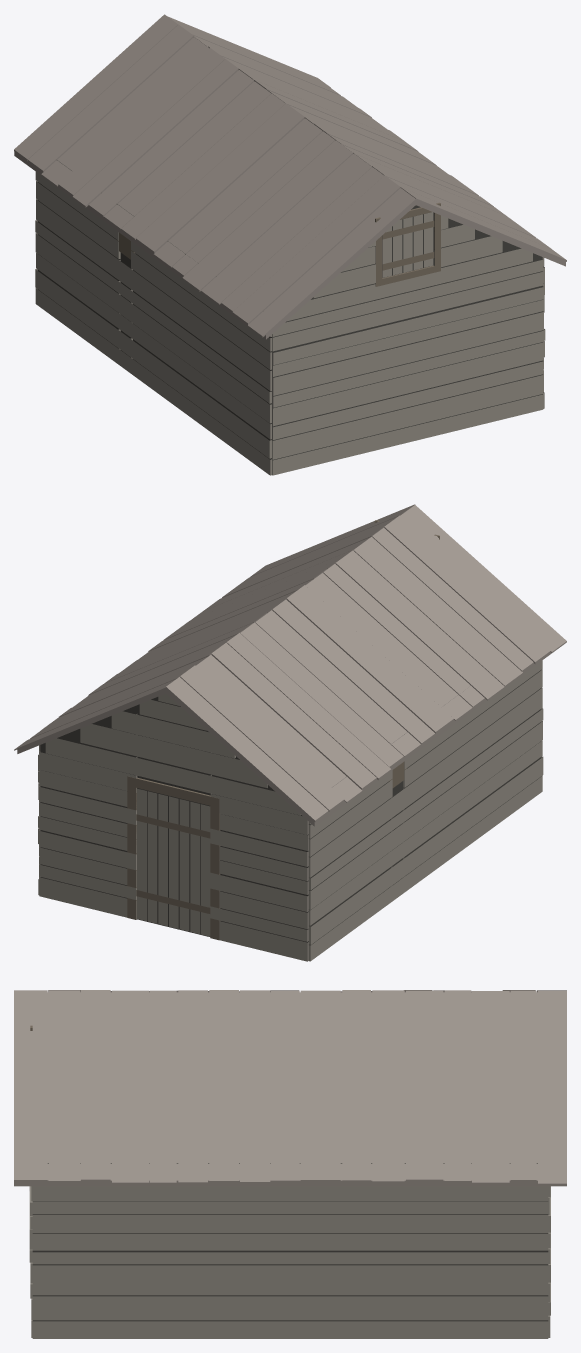
The model's file is recon_1835_west_010__inferred_1835.glb.
The picture shows the model from 3 angles, top to bottom: view 1: azimuth 30°, elevation 25°; view 2: azimuth 150°, elevation 25°; view 3: azimuth 270°, elevation 25°; orthographic projection. The views are drawn at different scales.
Visible parts, largest first — view 1: recon_1835_west_010__inferred_1835; view 2: recon_1835_west_010__inferred_1835; view 3: recon_1835_west_010__inferred_1835.
Boxes of the visible parts, x1,y1,x2,y2 form: recon_1835_west_010__inferred_1835: (14,14,566,475); recon_1835_west_010__inferred_1835: (14,504,566,961); recon_1835_west_010__inferred_1835: (14,990,566,1338).
Bounding box in the file's own units: 5.53 × 4.31 × 7.85.
